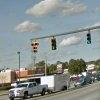Traffic light: (21, 30, 63, 55)
